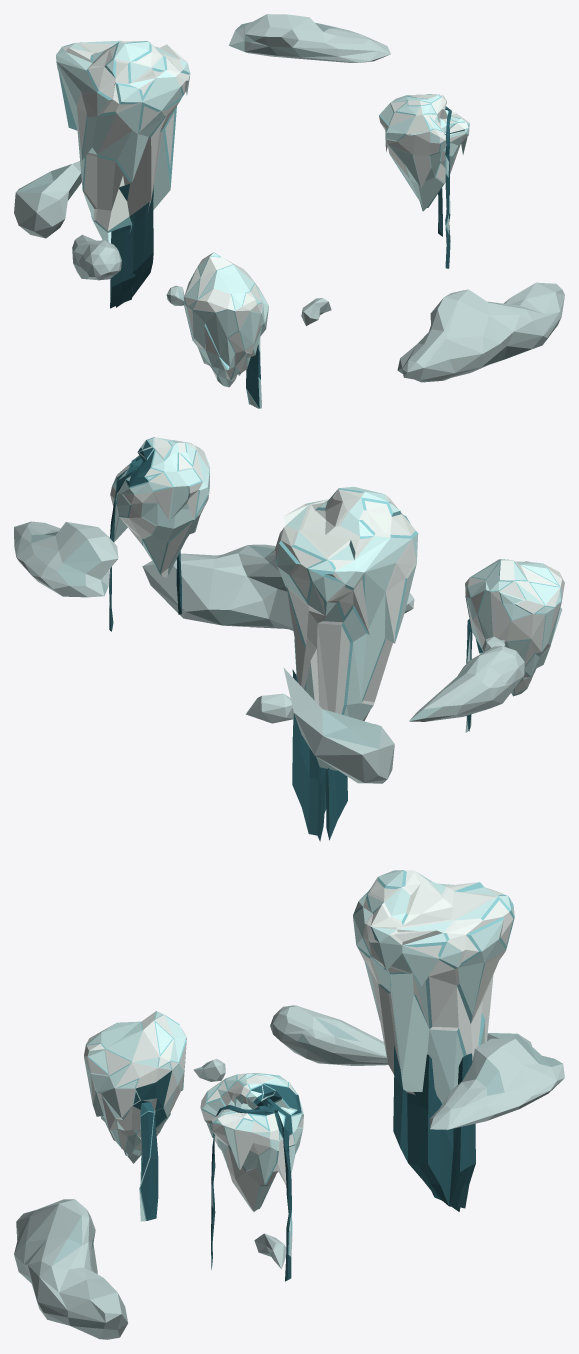
The model's file is ice.glb.
The picture shows the model from 3 angles, top to bottom: view 1: azimuth 30°, elevation 25°; view 2: azimuth 150°, elevation 25°; view 3: azimuth 270°, elevation 25°; orthographic projection. The views are drawn at different scales.
Visible parts, largest first — view 1: IslaFlotanteHielo03, Nube02, IslaFlotanteHielo02, IslaFlotanteHielo01, Nube01, Nube03, Nube06, Nube05; view 2: IslaFlotanteHielo03, IslaFlotanteHielo01, Nube02, IslaFlotanteHielo02, Nube01, Nube03, Nube06, Nube05; view 3: IslaFlotanteHielo03, IslaFlotanteHielo02, IslaFlotanteHielo01, Nube02, Nube01, Nube06, Nube05.
Part boxes in pixels (x1,y1,x2,y2): IslaFlotanteHielo03: [56, 40, 190, 308]; Nube02: [397, 282, 564, 382]; IslaFlotanteHielo02: [183, 252, 268, 408]; IslaFlotanteHielo01: [379, 94, 469, 268]; Nube01: [229, 14, 390, 62]; Nube03: [14, 161, 81, 238]; Nube06: [72, 234, 121, 280]; Nube05: [301, 298, 331, 325]; IslaFlotanteHielo03: [274, 487, 418, 841]; IslaFlotanteHielo01: [109, 437, 210, 631]; Nube02: [142, 544, 414, 631]; IslaFlotanteHielo02: [465, 559, 564, 732]; Nube01: [14, 521, 118, 597]; Nube03: [283, 668, 394, 783]; Nube06: [409, 646, 525, 721]; Nube05: [246, 693, 293, 723]; IslaFlotanteHielo03: [353, 870, 514, 1211]; IslaFlotanteHielo02: [84, 1011, 186, 1221]; IslaFlotanteHielo01: [200, 1073, 303, 1281]; Nube02: [14, 1199, 127, 1339]; Nube01: [429, 1038, 564, 1129]; Nube06: [270, 1005, 388, 1065]; Nube05: [254, 1233, 286, 1268].
Bounding box in the file's own units: 1733 × 1340 × 1770.
